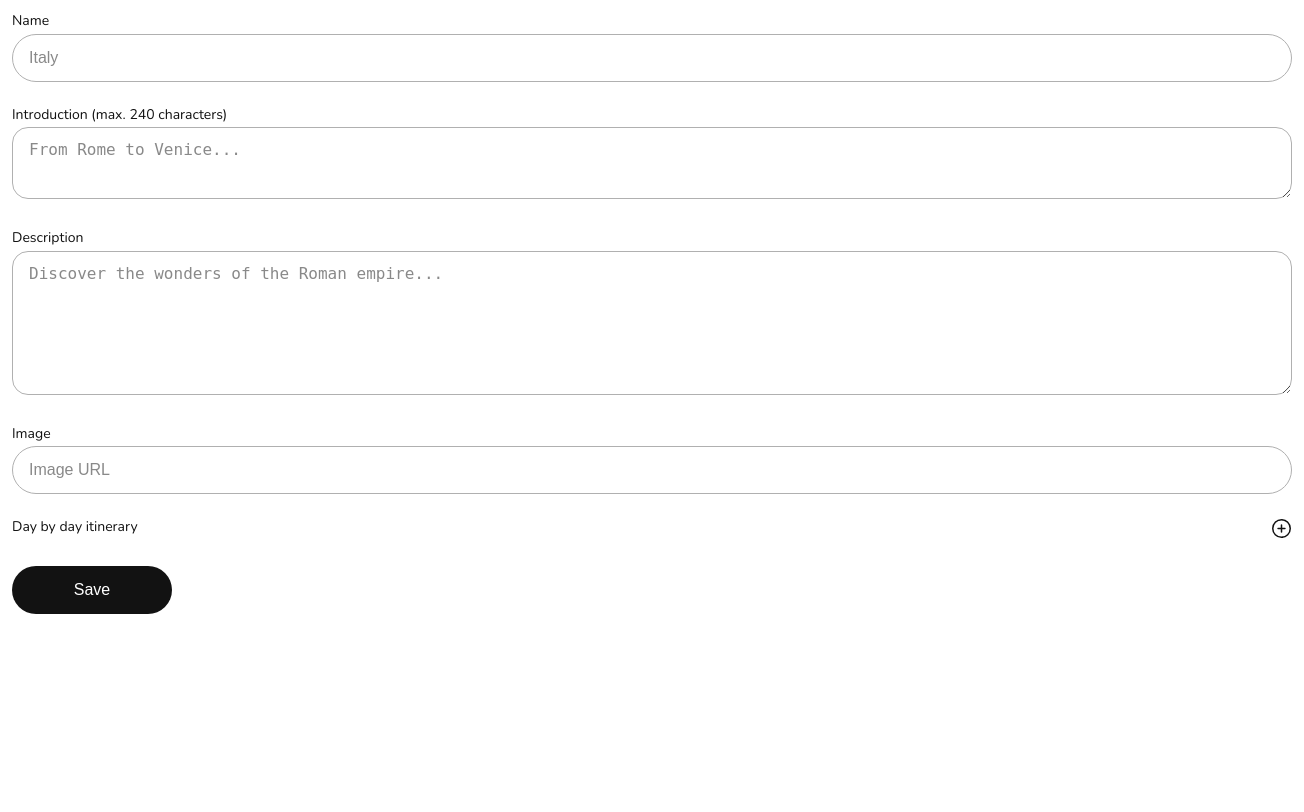
Scenario: TripForm › should show errors for invalid inputs
Note: Simulate form submission
Click the button "Save".
click(92, 590)  # box [12,566,172,614]
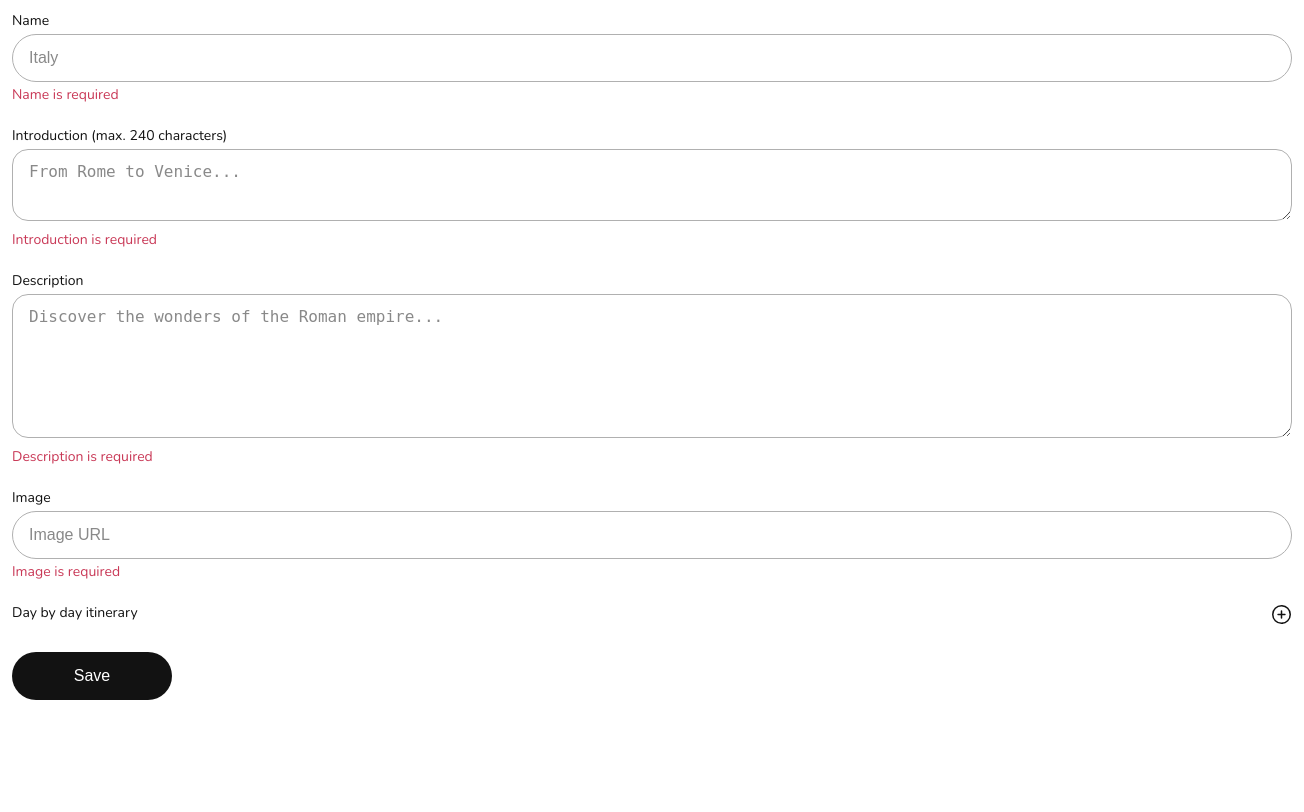
Check: the text "Name is required" is shown, box [12,84,119,104]
Check: the text "Introduction is required" is shown, box [12,230,157,248]
Check: the text "Description is required" is shown, box [12,446,153,466]
